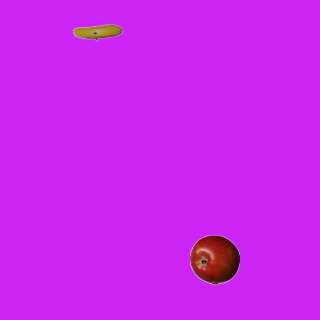Apple Braeburn: (189, 234, 239, 284)
Banana: (72, 7, 122, 57)
